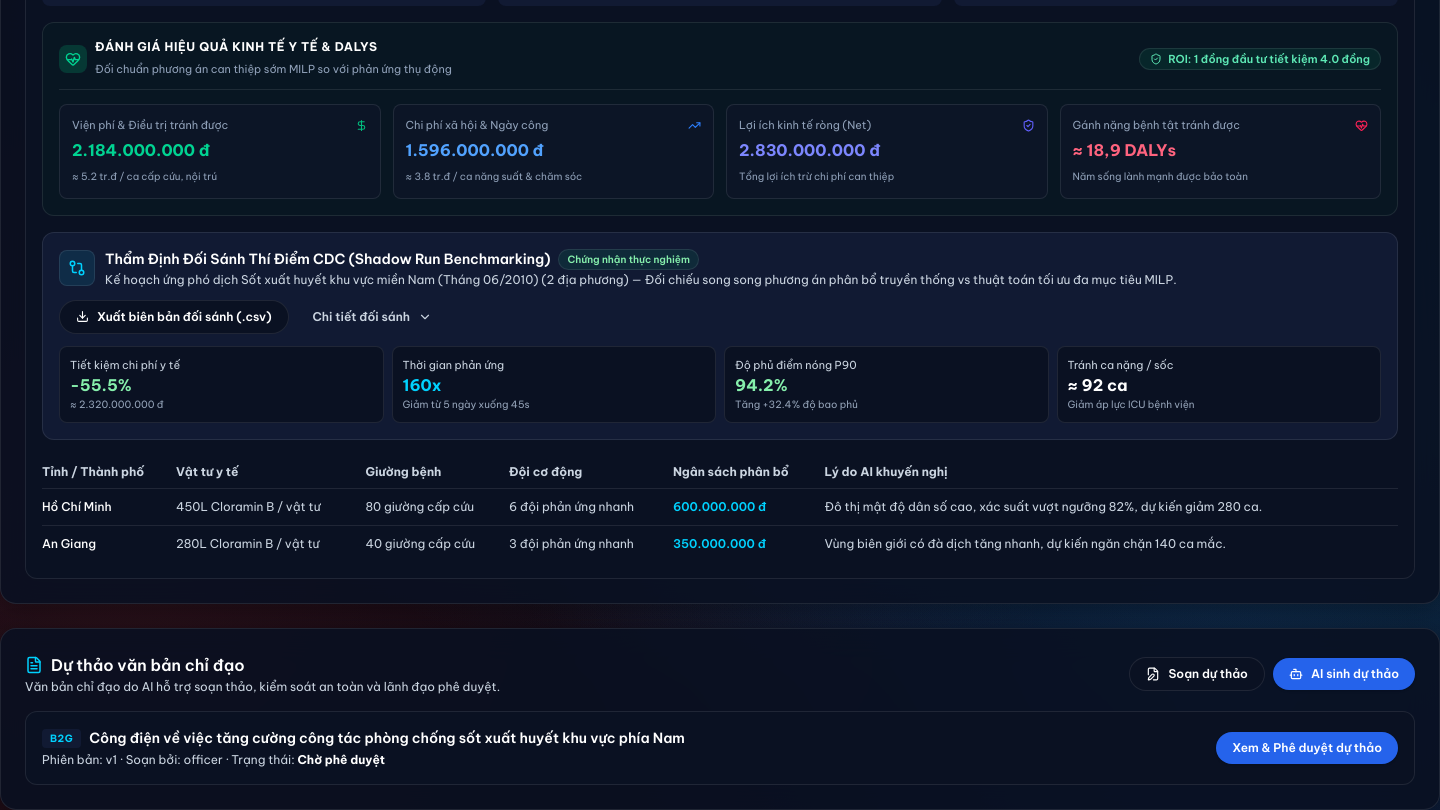
Test: CaseDetailPage (S7 Chi tiết hồ sơ & S8 Phân bổ nguồn lực) › cho phép officer mở modal yêu cầu AI sinh dự thảo văn bản
The image size is (1440, 810).
(page scrolled)
Click the button "AI sinh dự thảo": (1344, 674) x1=1273 y1=658 x2=1415 y2=690
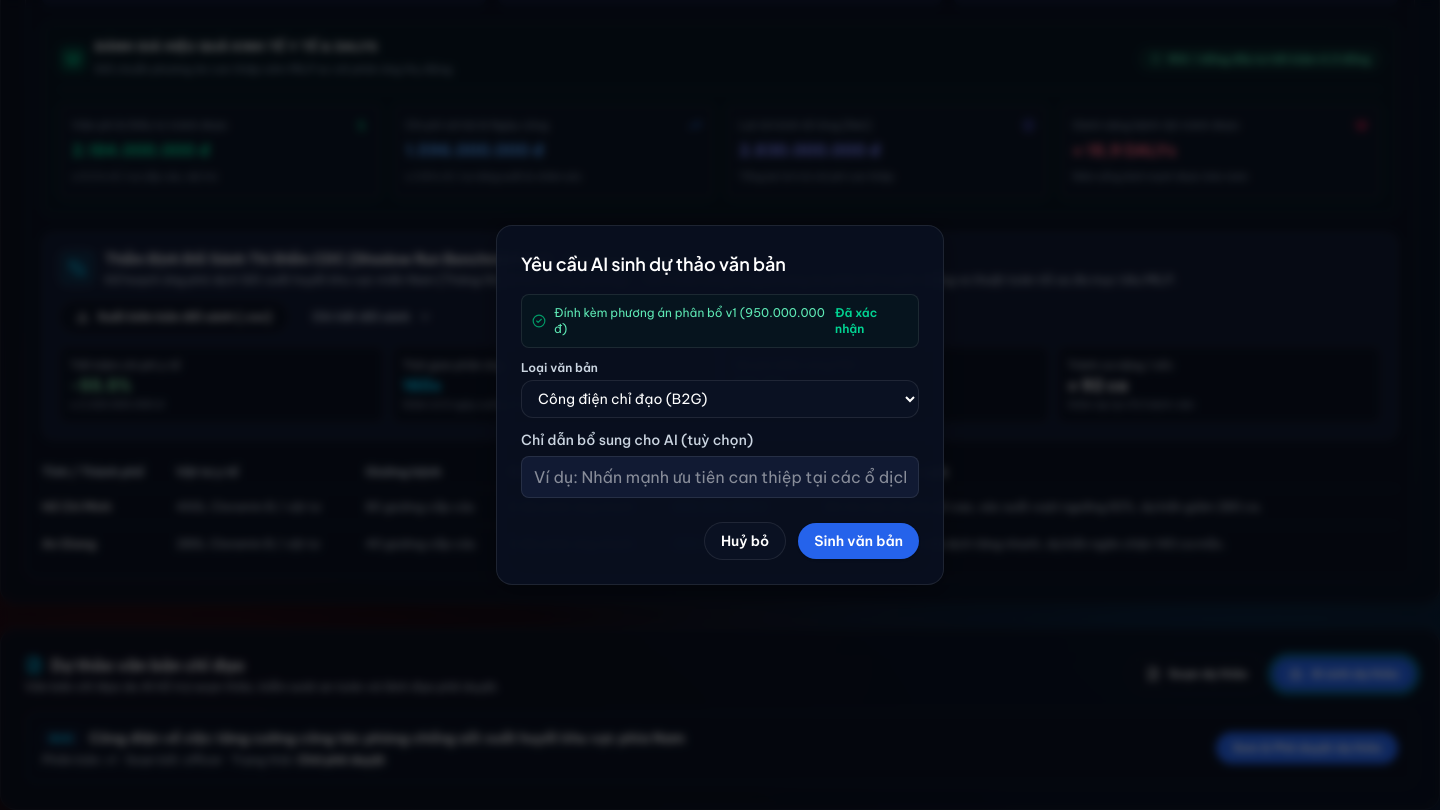
Now the heading "Yêu cầu AI sinh dự thảo văn bản" is shown, box x1=521 y1=252 x2=786 y2=275
Click the button "Huỷ bỏ": (745, 541) x1=704 y1=522 x2=786 y2=560
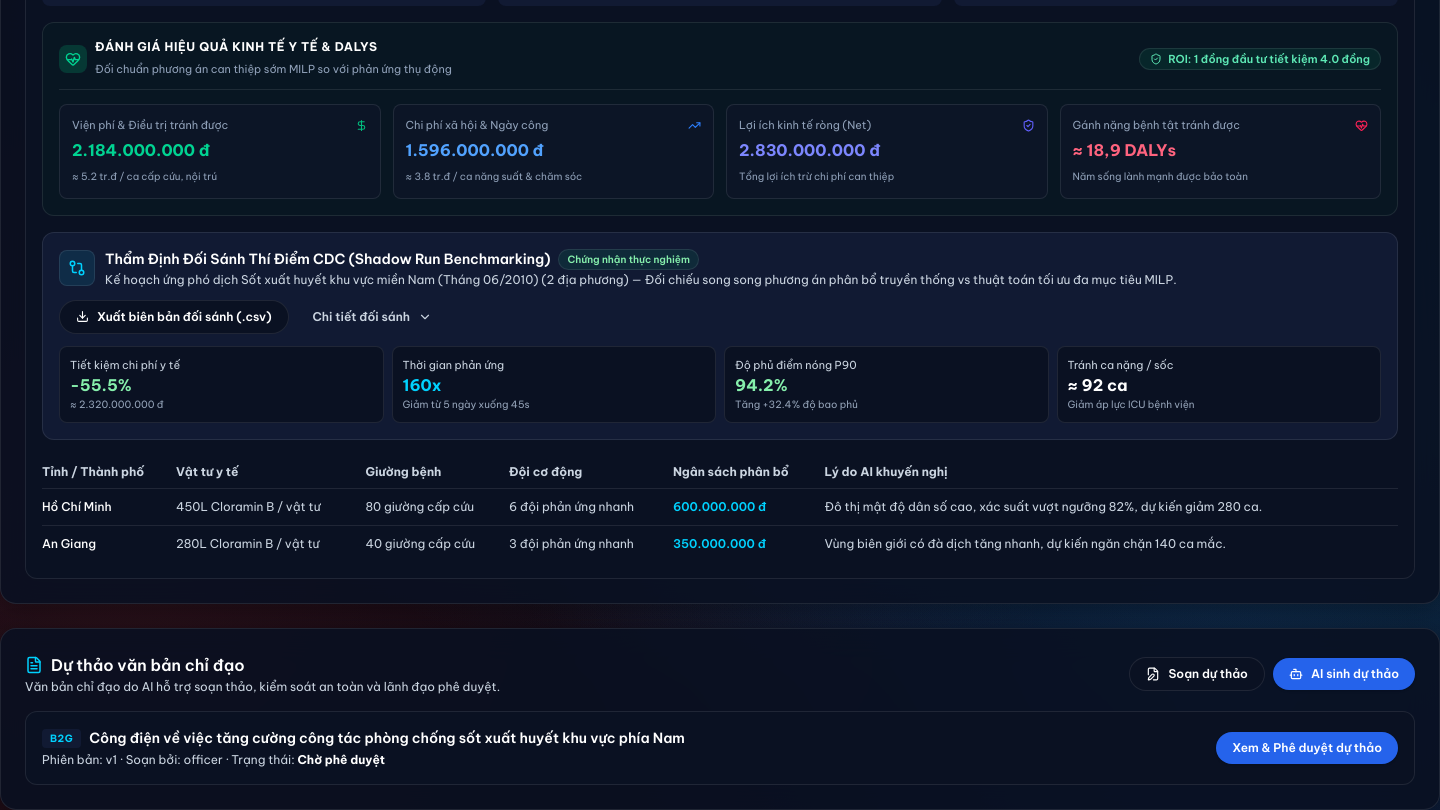
Now the dialog is gone
